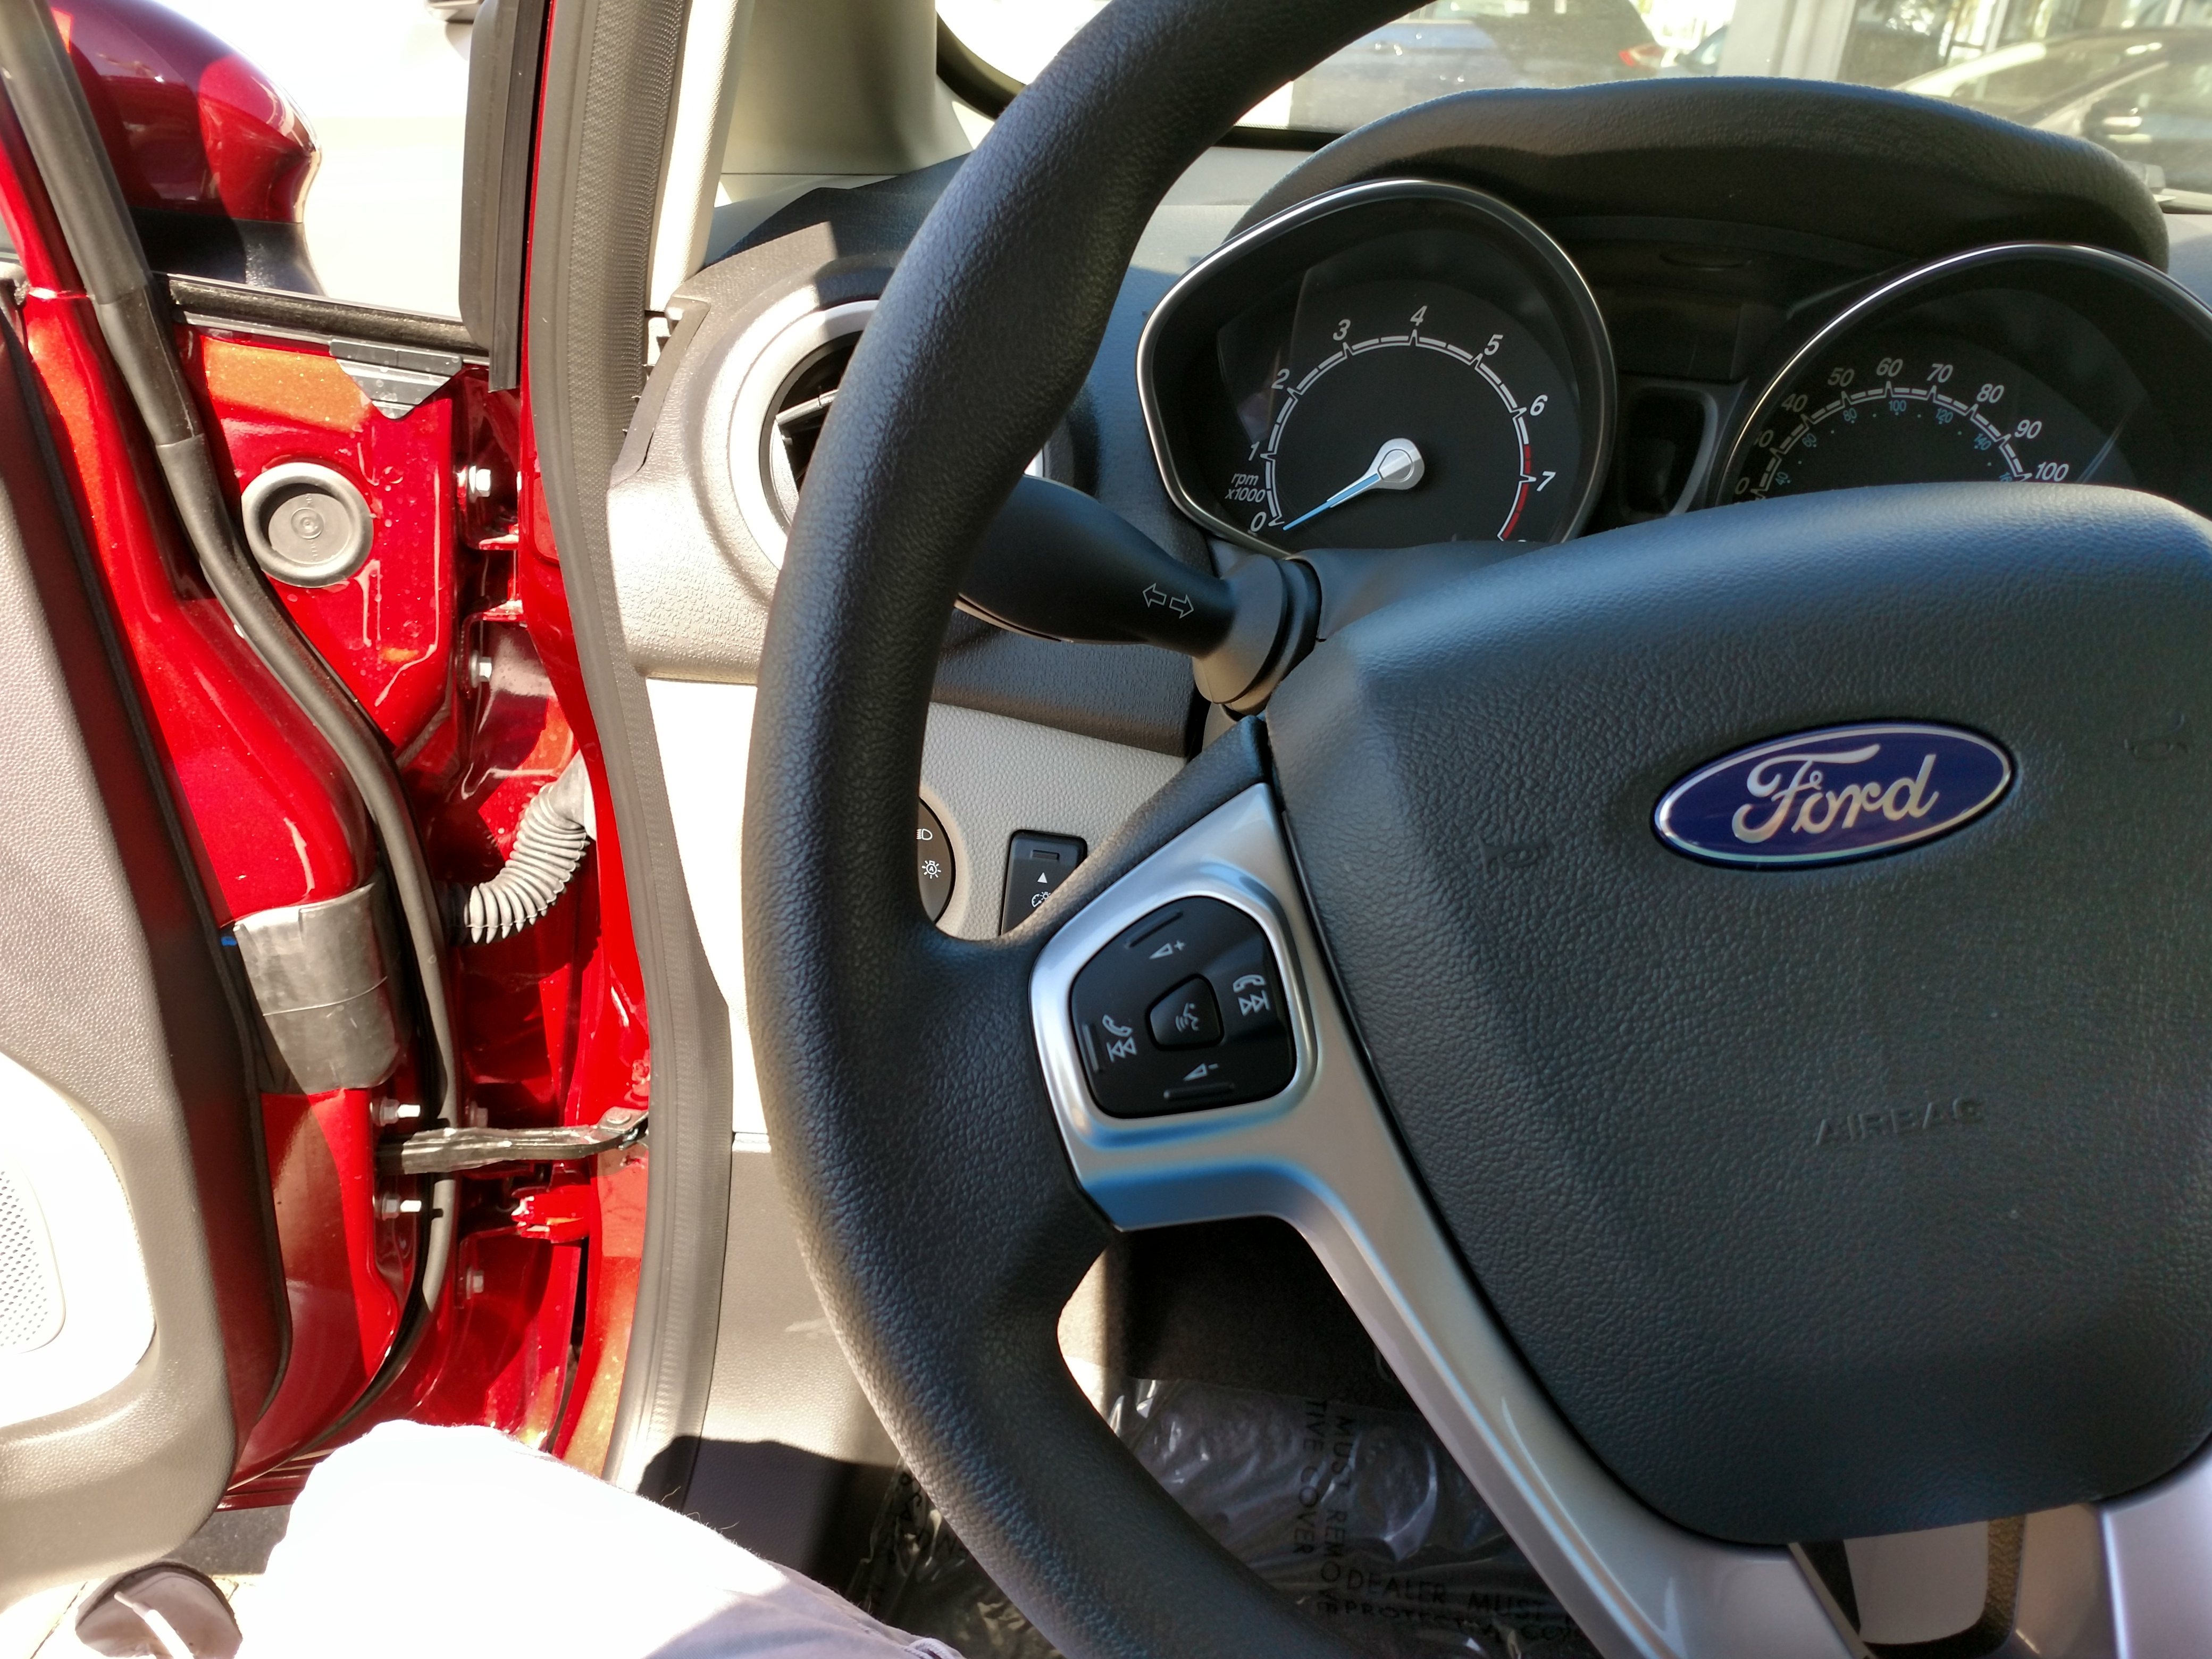Ford: (1618, 685, 2067, 901)
